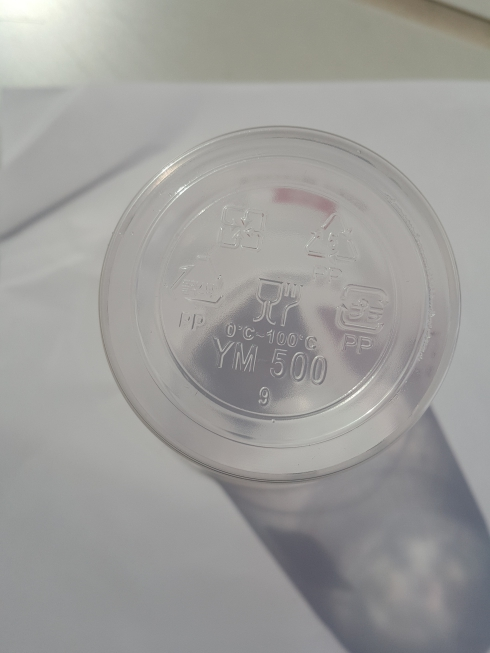recycle: (174, 243, 225, 332)
